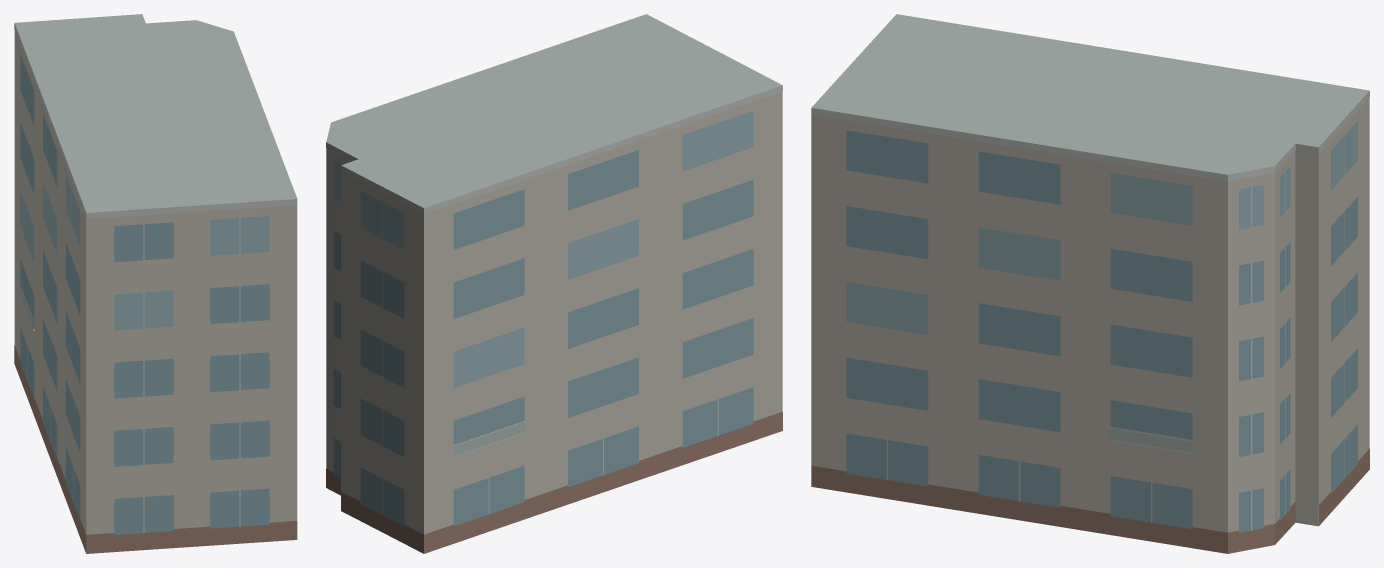
The model's file is survey-upis-32876097.glb.
The picture shows the model from 3 angles, left to right: view 1: azimuth 30°, elevation 25°; view 2: azimuth 150°, elevation 25°; view 3: azimuth 270°, elevation 25°; orthographic projection. The views are drawn at different scales.
Parts seen in each view (by area): view 1: survey-upis-32876097.tmp; view 2: survey-upis-32876097.tmp; view 3: survey-upis-32876097.tmp.
Boxes of the visible parts, x1,y1,x2,y2 form: survey-upis-32876097.tmp: [14, 14, 297, 553]; survey-upis-32876097.tmp: [326, 14, 782, 553]; survey-upis-32876097.tmp: [811, 14, 1369, 553].
Bounding box in the file's own units: 12.39 × 13.6 × 18.17.
